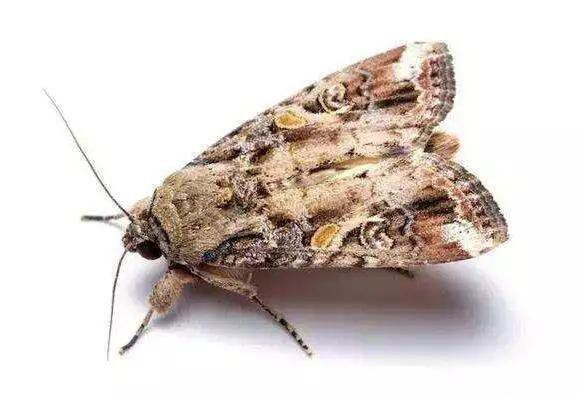feie: (97, 44, 501, 309)
